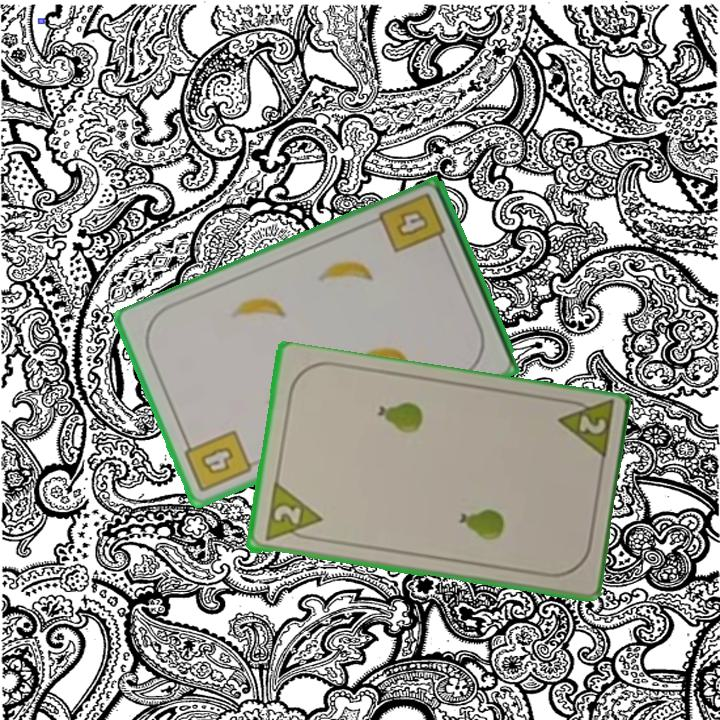2p: (553, 396, 617, 465), (269, 502, 304, 529)
4b: (179, 426, 255, 496), (375, 189, 450, 257)
